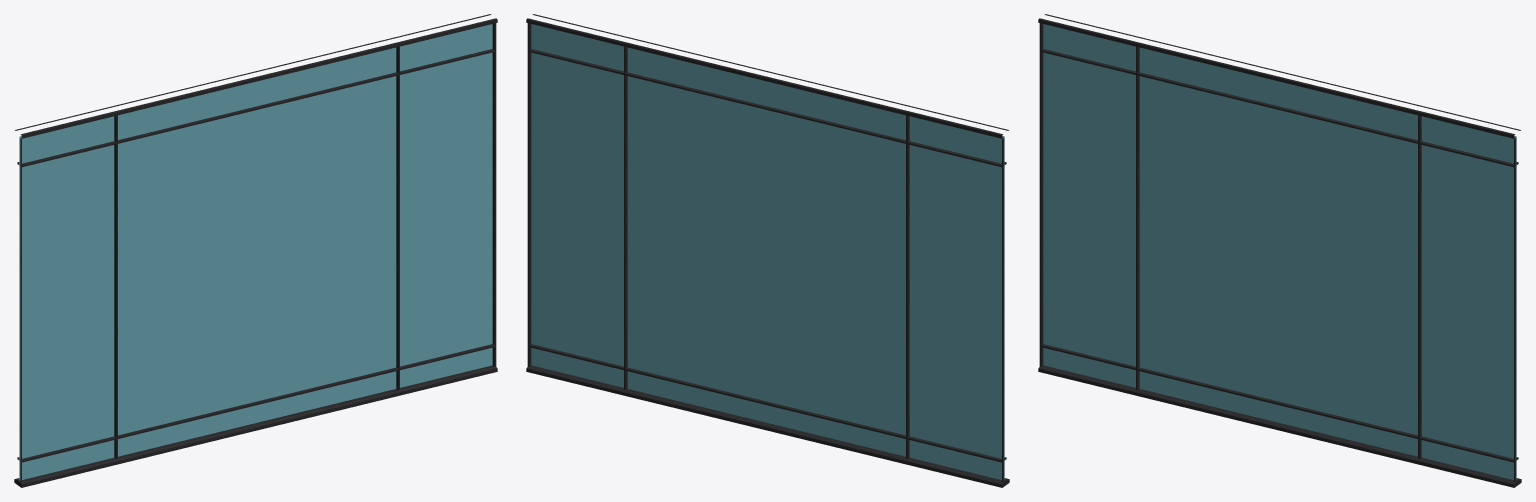
The model's file is window-02.glb.
3 views of the same model, side by side, from view 1: azimuth 30°, elevation 25°; view 2: azimuth 150°, elevation 25°; view 3: azimuth 330°, elevation 25° (orthographic).
Visible parts, largest first — view 1: Window_02_Glass_in, Window_02; view 2: Window_02_Glass_out, Window_02; view 3: Window_02_Glass_in, Window_02.
Boxes of the visible parts, x1,y1,x2,y2 form: Window_02_Glass_in: [20, 24, 492, 480]; Window_02: [14, 14, 497, 487]; Window_02_Glass_out: [531, 24, 1003, 480]; Window_02: [526, 14, 1009, 487]; Window_02_Glass_in: [1043, 24, 1515, 480]; Window_02: [1038, 14, 1521, 487].
Bounding box in the file's own units: 6 × 4.25 × 0.1597.
2 materials, 1 textured.
